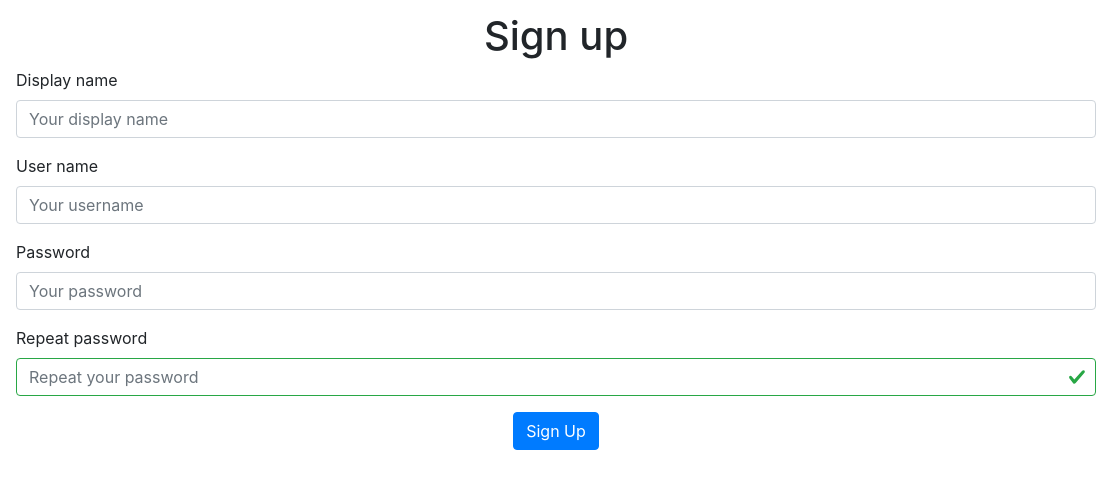
Test: UserSignupPage › Interactions › displays validation error for displayname when error is received for the field
Type "my-display-name" into the field with placeholder "Your display name" at (556, 119), box x1=16 y1=100 x2=1096 y2=138
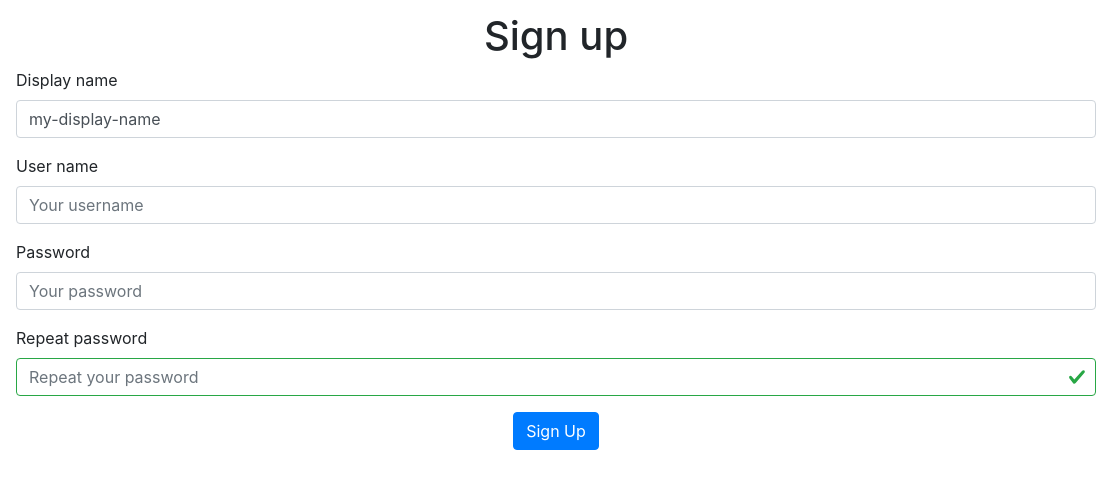
Type "my-user-name" into the field with placeholder "Your username" at (556, 205), box x1=16 y1=186 x2=1096 y2=224
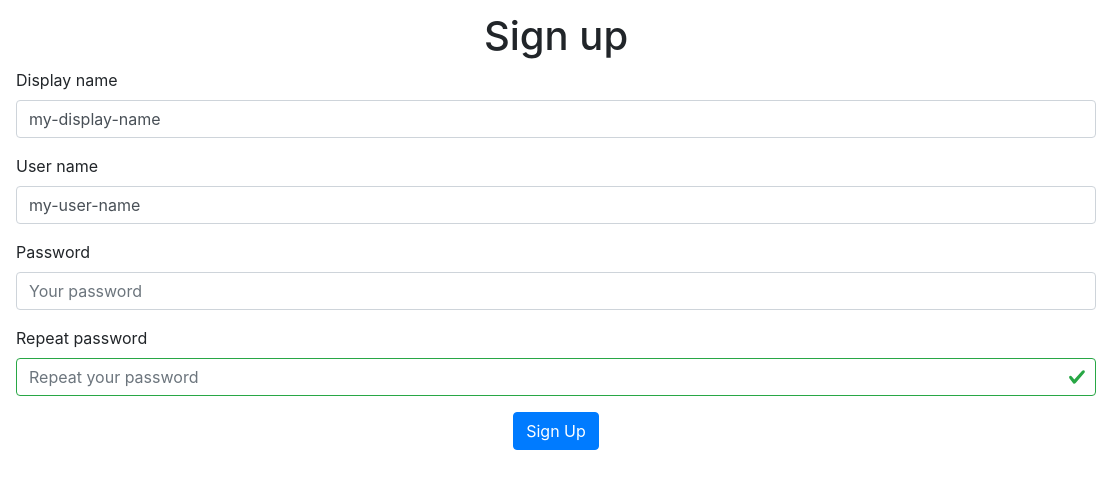
Type "P4ssword" into the password field with placeholder "Your password" at (556, 291), box x1=16 y1=272 x2=1096 y2=310
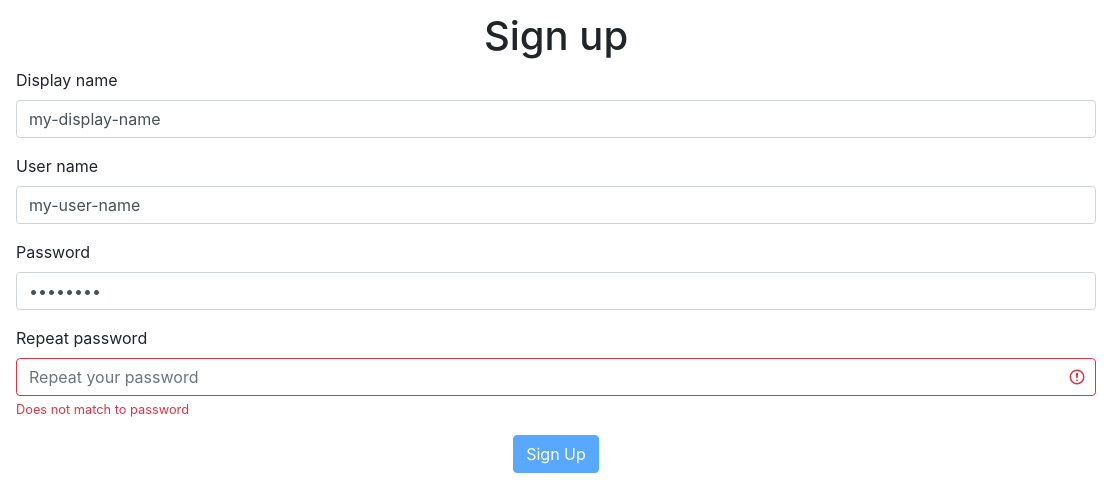
Type "P4ssword" into the password field with placeholder "Repeat your password" at (556, 377), box x1=16 y1=358 x2=1096 y2=396
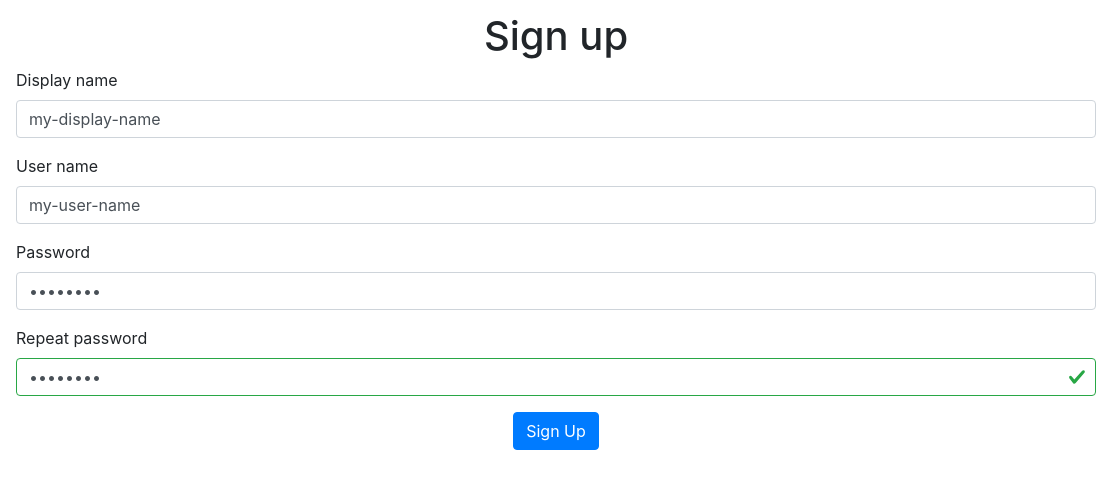
Click the button "Sign Up" at (556, 431), box x1=513 y1=412 x2=599 y2=450
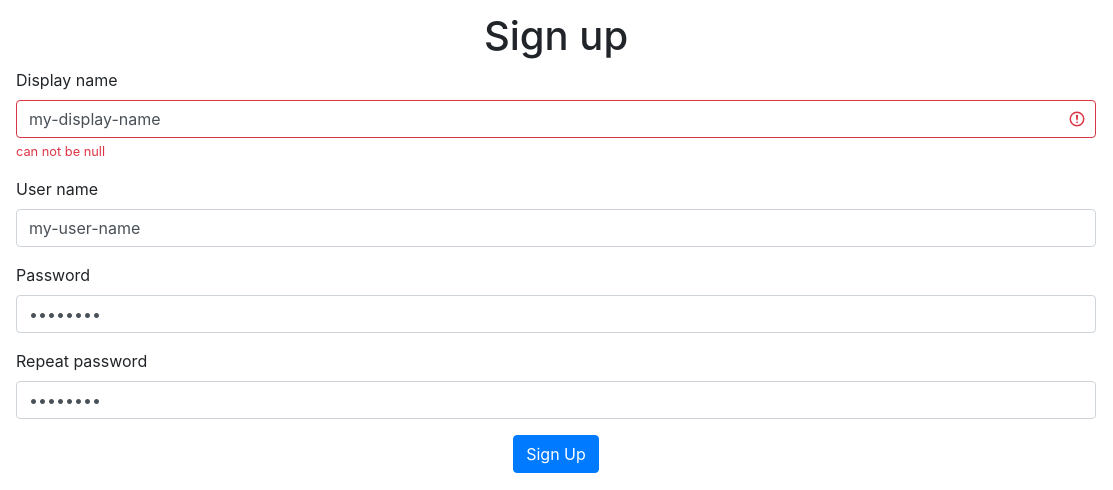
Result: the text "can not be null" is shown at x1=16 y1=144 x2=105 y2=159
